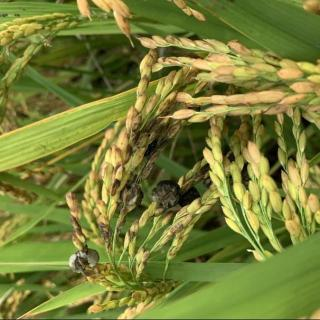Gosong-Palsu: (151, 180, 199, 212), (68, 247, 100, 276), (114, 182, 144, 208)
